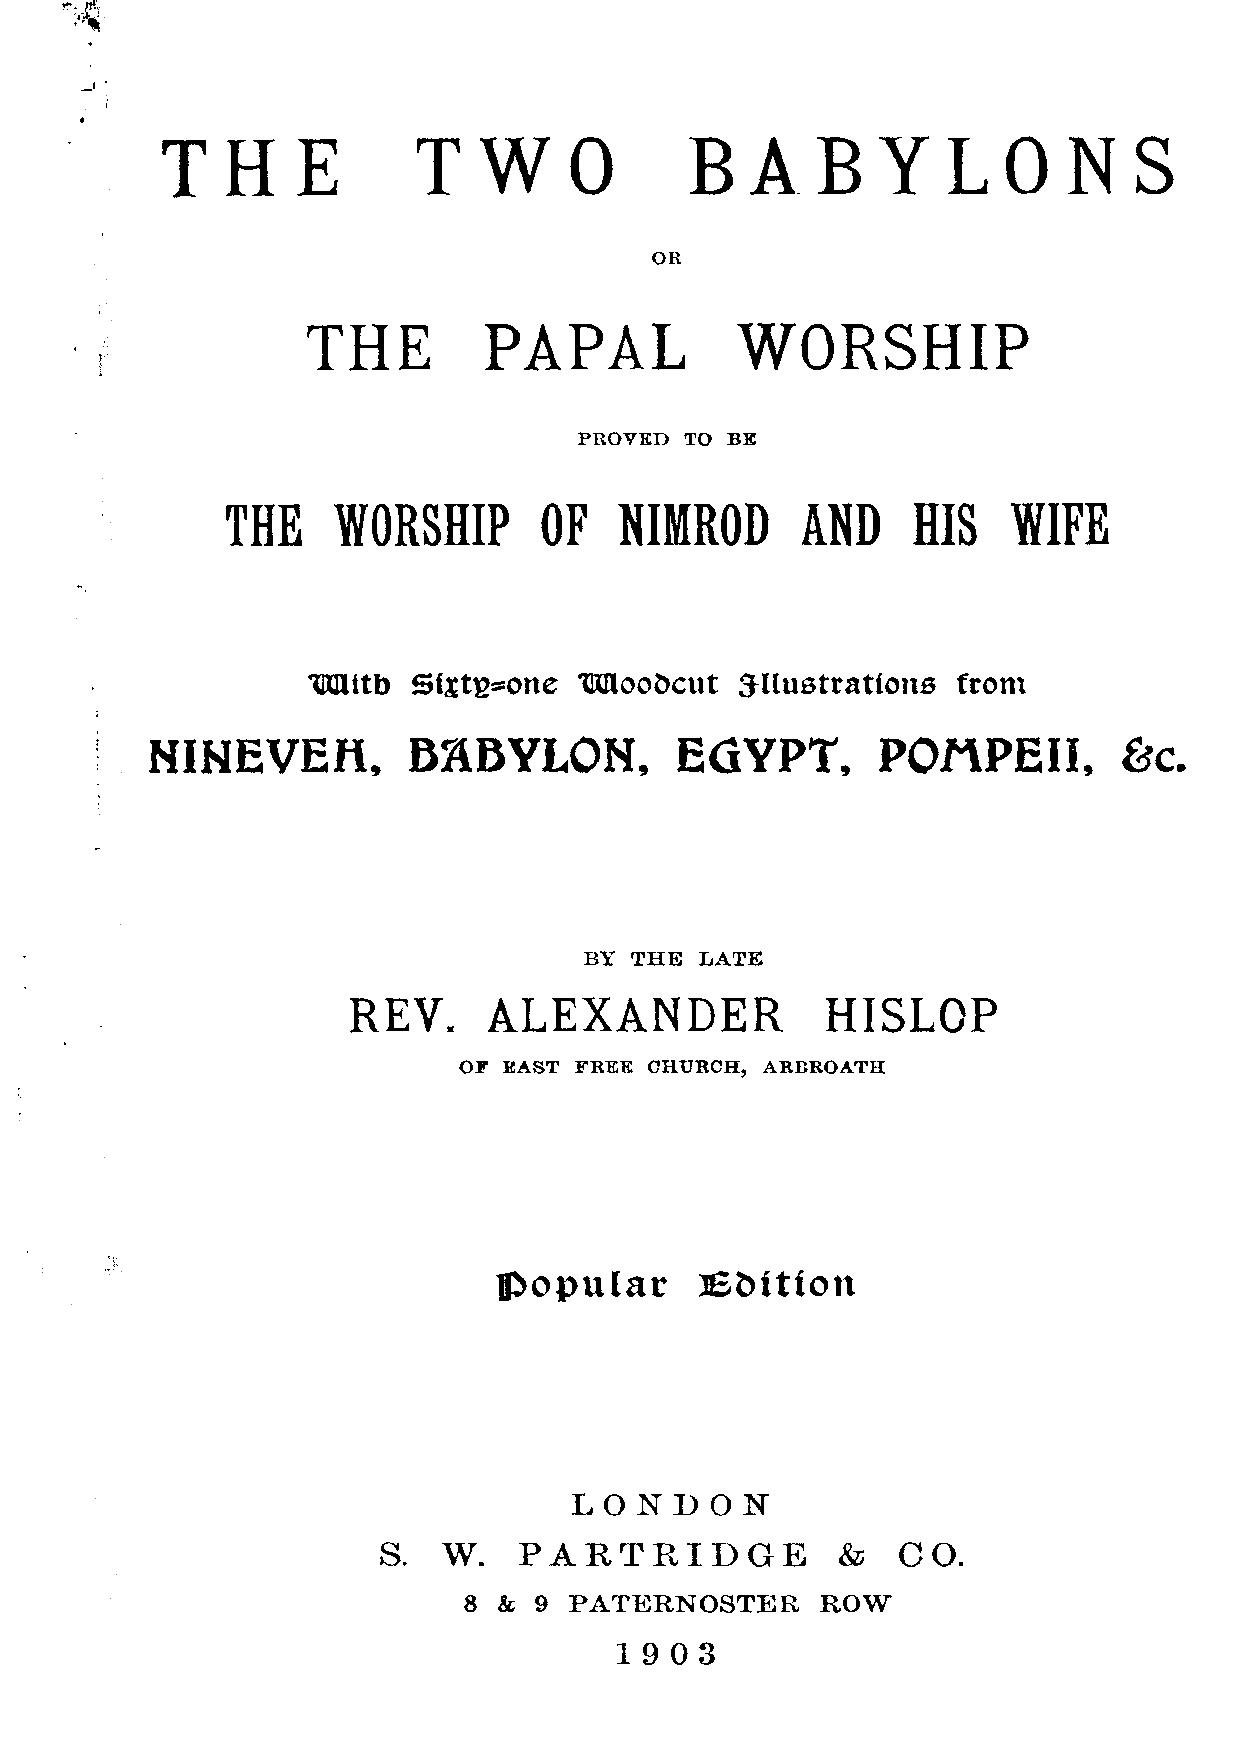author: (344, 949, 996, 1037)
title: (158, 134, 1174, 373)
